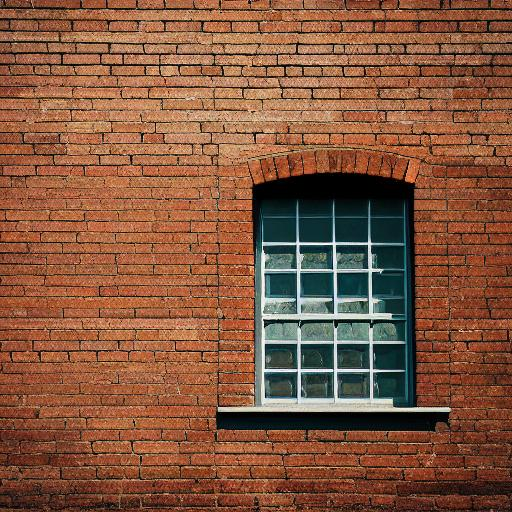Window: (211, 149, 453, 419)
